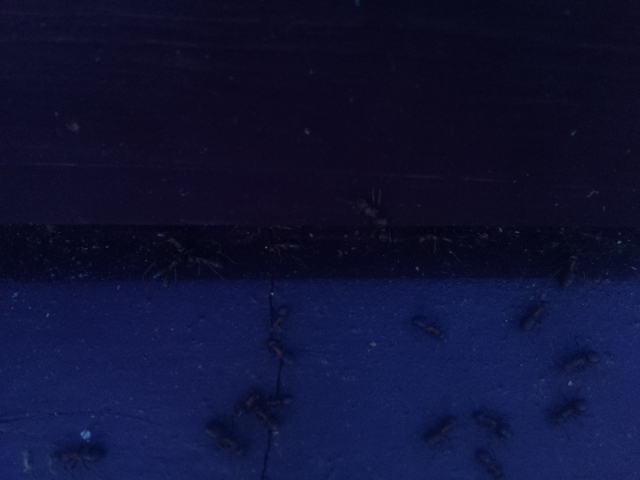ant: (147, 232, 186, 288), (471, 401, 516, 443), (263, 303, 295, 361), (420, 412, 459, 452), (513, 291, 549, 334), (471, 444, 506, 479), (558, 393, 589, 430), (412, 310, 444, 343)
